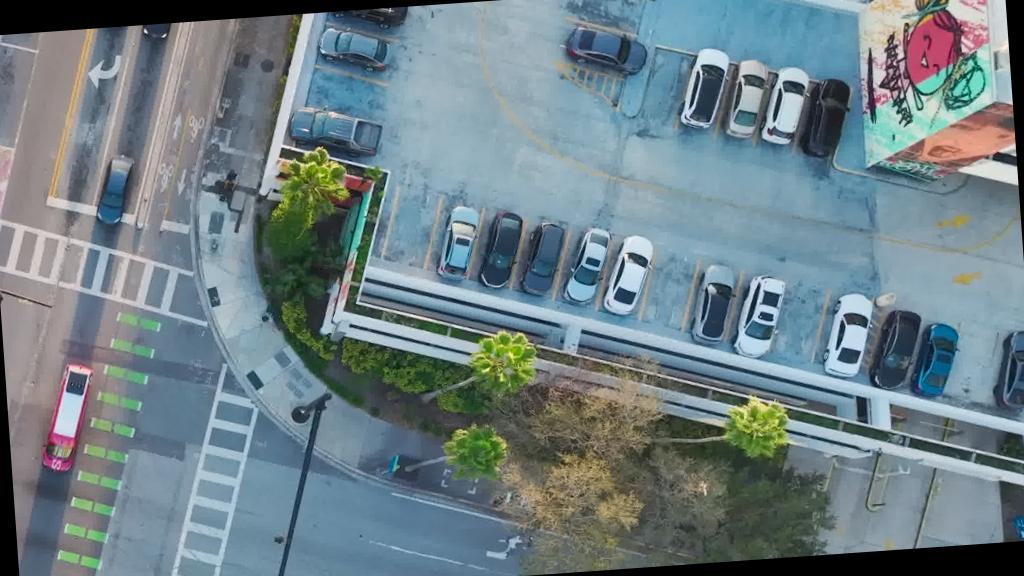cars: (34, 362, 100, 473), (286, 102, 386, 164), (727, 274, 790, 360), (674, 46, 734, 132), (864, 310, 926, 392), (818, 292, 876, 379), (796, 76, 856, 160), (564, 20, 648, 79), (598, 235, 658, 317), (756, 64, 814, 146), (556, 226, 615, 306), (905, 320, 963, 400), (684, 262, 739, 346), (719, 59, 772, 140), (474, 212, 527, 292), (515, 222, 569, 298), (318, 24, 394, 77), (432, 204, 484, 281), (92, 154, 138, 226), (988, 330, 1024, 413), (332, 7, 410, 34), (142, 23, 172, 40)
